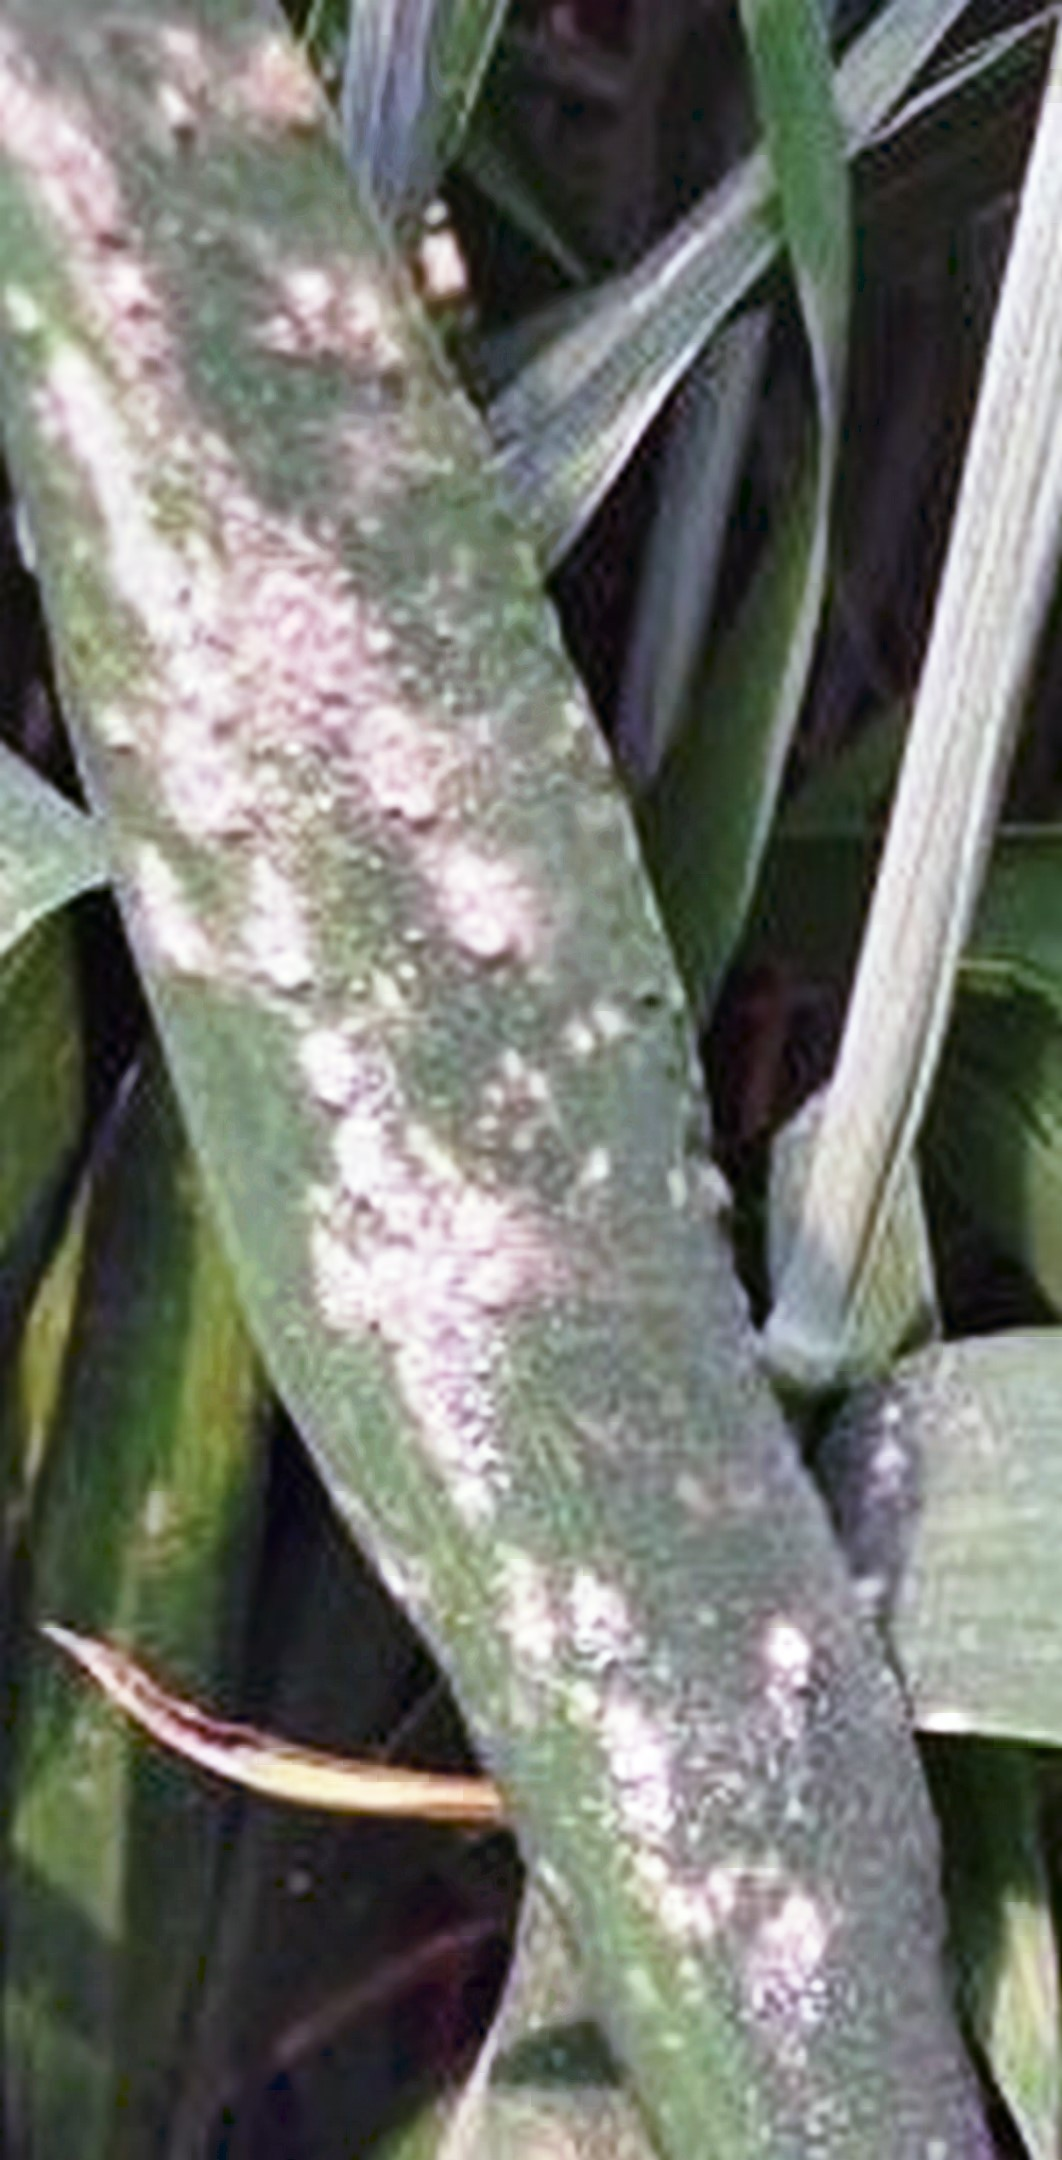Powdery Mildew: (95, 387, 939, 1946)
